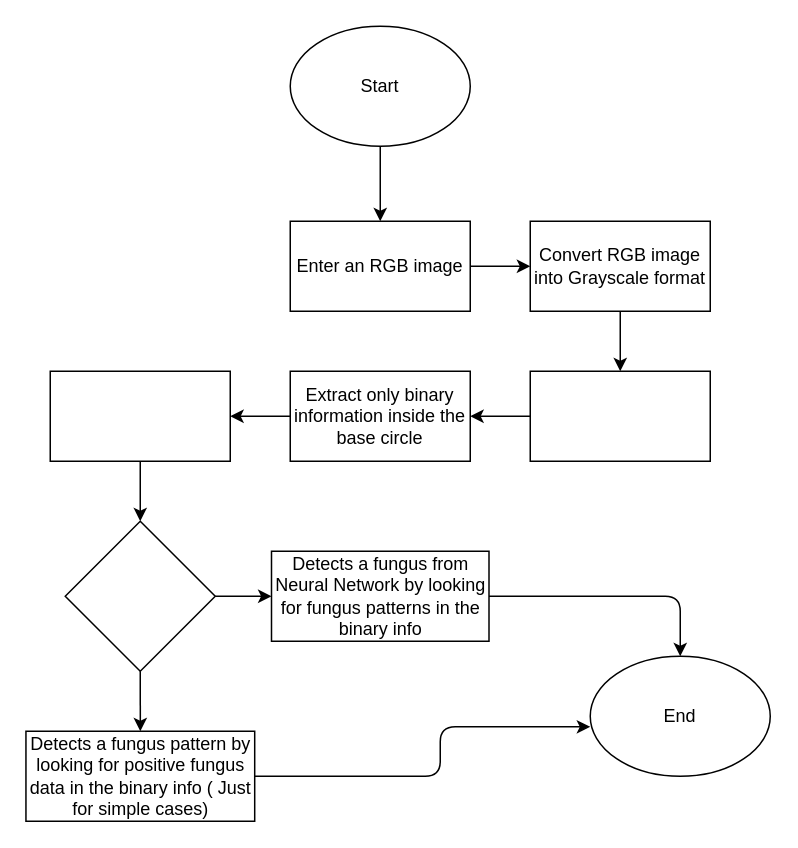
The diagram is 798 pixels wide and 848 high, and some of its shapes have lost their labels. Here are the shapes that lost their labels. From the top down, the centre of each, then its label:
At (x=139, y=415): "Convert Grayscale image into Binary format".
At (x=619, y=415): "Detect the base circle from the binary image grayscale image (Hough Transfrom)".
At (x=139, y=595): "If ML mode == 1".
